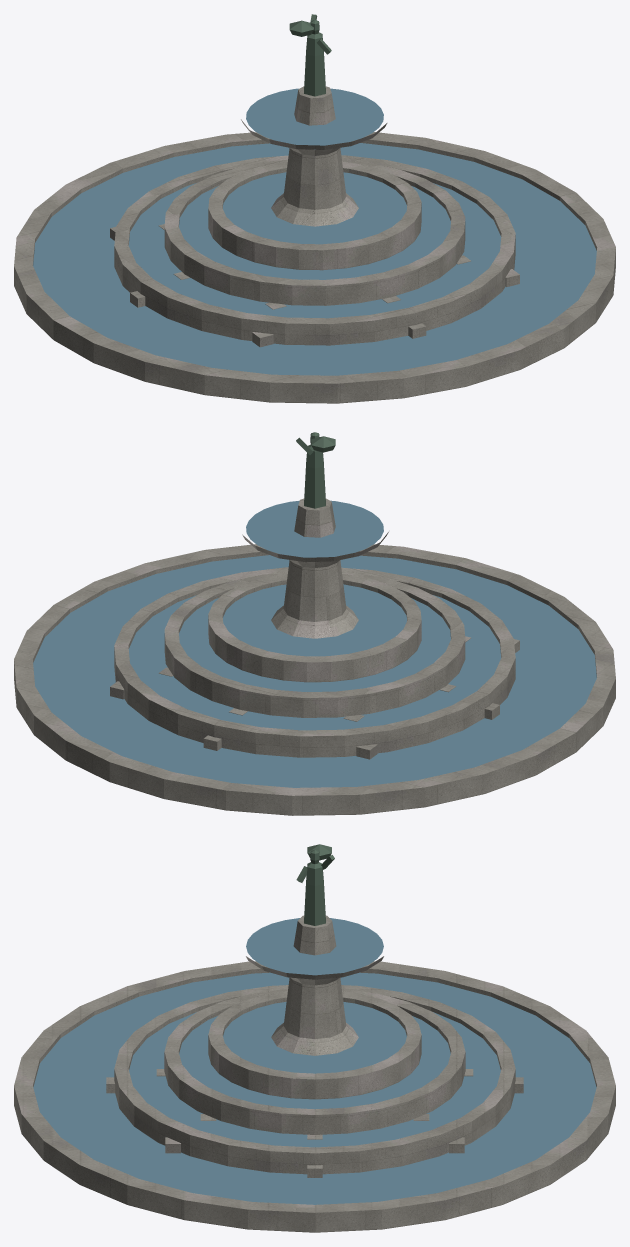
File: pulitzer_fountain.glb
3 views of the same model, one above another, from view 1: azimuth 30°, elevation 25°; view 2: azimuth 150°, elevation 25°; view 3: azimuth 270°, elevation 25° (orthographic).
Parts seen in each view (by area): view 1: pulitzer_fountain; view 2: pulitzer_fountain; view 3: pulitzer_fountain.
Part boxes in pixels (box(x1,y1,x2,y2)): pulitzer_fountain: box(14, 14, 615, 403); pulitzer_fountain: box(14, 432, 615, 815); pulitzer_fountain: box(14, 844, 615, 1232).
Bounding box in the file's own units: 19.2 × 9 × 19.2.
Materials: 2 (2 with a texture image).
